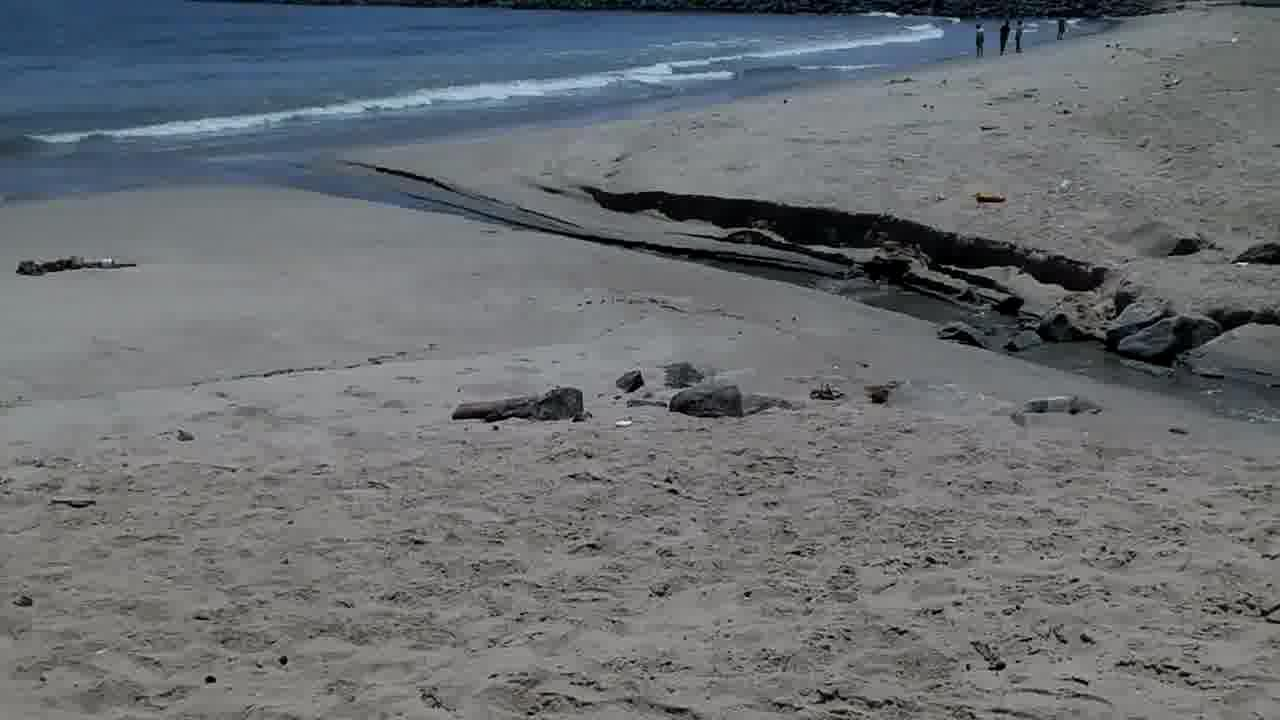large collection of objects: (1104, 312, 1279, 393)
obj: (602, 354, 775, 422), (452, 377, 587, 434), (13, 252, 138, 282), (968, 188, 1008, 207)
sand/background: (0, 0, 1279, 366)
